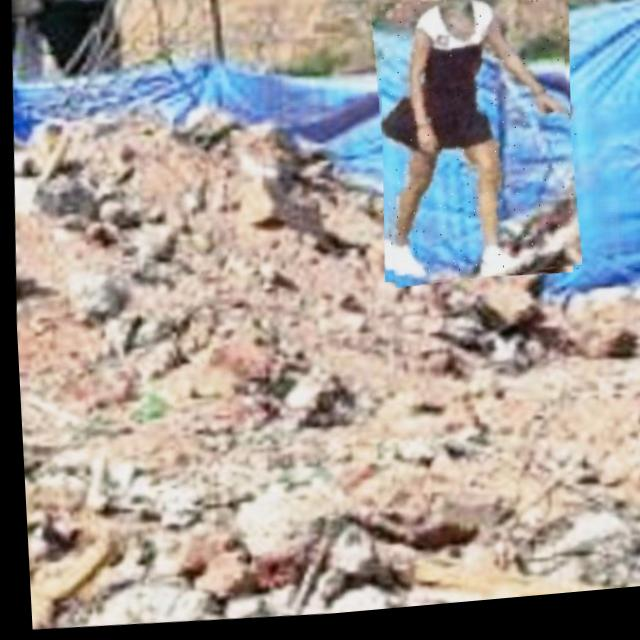Person in Rubble: (364, 0, 584, 299)
